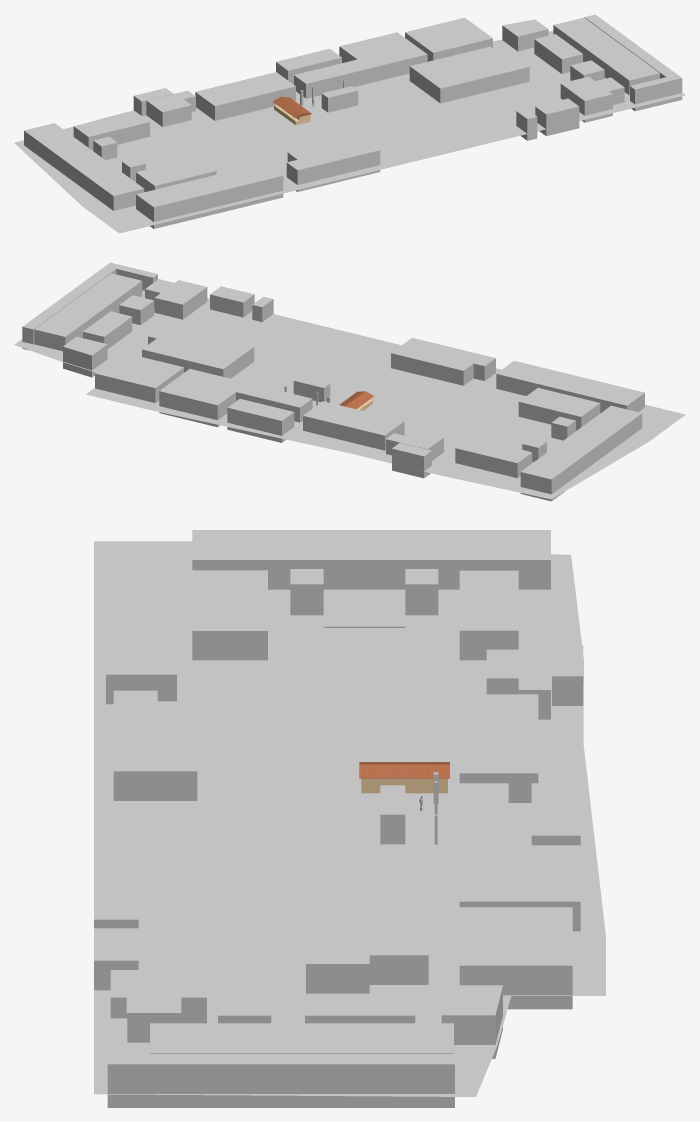
The model's file is compund.glb.
3 views of the same model, one above another, from view 1: azimuth 30°, elevation 25°; view 2: azimuth 150°, elevation 25°; view 3: azimuth 270°, elevation 25° (orthographic). The views are drawn at different scales.
Parts seen in each view (by area): view 1: Plane, Cube.020, Cube.021, Cube.004, Cube.007, Cube.019, Cube.008, Cube.003, Cube.005, Cube.012, Cube.011, Cube.016 (+12 smaller); view 2: Plane, Cube.021, Cube.004, Cube.007, Cube.020, Cube.008, Cube.019, Cube.003, Cube.005, Cube.022, Cube.016, Cube.006 (+11 smaller); view 3: Plane, Cube.012, Cube.021, Cube.007, Cube.004, Cube.005, Cube.020, Cube.008, Cube.019, Cube.003, Cube.022, Cube.011 (+14 smaller).
Part boxes in pixels (x1,y1,x2,y2): Plane: (14,31,685,233); Cube.020: (136,163,283,228); Cube.021: (24,123,144,210); Cube.004: (294,32,427,98); Cube.007: (409,46,529,103); Cube.019: (286,135,380,191); Cube.008: (553,17,659,95); Cube.003: (195,72,295,120); Cube.005: (405,17,492,61); Cube.012: (584,14,682,111); Cube.011: (560,76,624,122); Cube.016: (73,111,149,150); Plane: (14,290,685,499); Cube.021: (520,405,642,501); Cube.004: (159,369,312,427); Cube.007: (142,324,254,378); Cube.020: (496,360,644,413); Cube.008: (34,273,142,351); Cube.019: (391,337,495,385); Cube.003: (303,401,404,450); Cube.005: (95,352,183,402); Cube.022: (518,388,600,430); Cube.016: (455,437,532,478); Cube.006: (227,399,294,442); Plane: (94,541,605,1096); Cube.012: (107,1018,454,1107); Cube.021: (192,530,550,589); Cube.007: (306,876,428,993); Cube.004: (459,783,580,931); Cube.005: (459,907,572,1009); Cube.020: (106,548,176,704); Cube.008: (150,1023,453,1053); Cube.019: (113,690,197,800); Cube.003: (459,694,538,802); Cube.022: (192,570,267,660); Cube.011: (110,970,206,1042).
Size of the model in its own units: 151 by 5.81 by 58.97.
3 materials, 1 textured.
